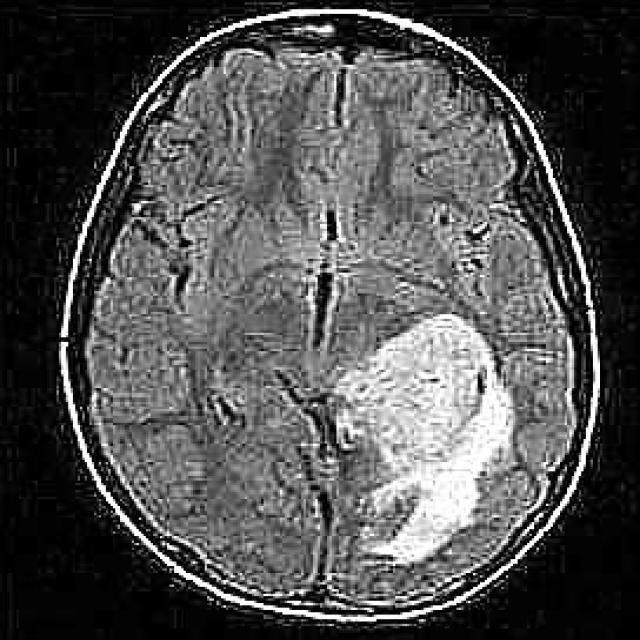Tumor-Cell: (352, 326, 496, 508)
